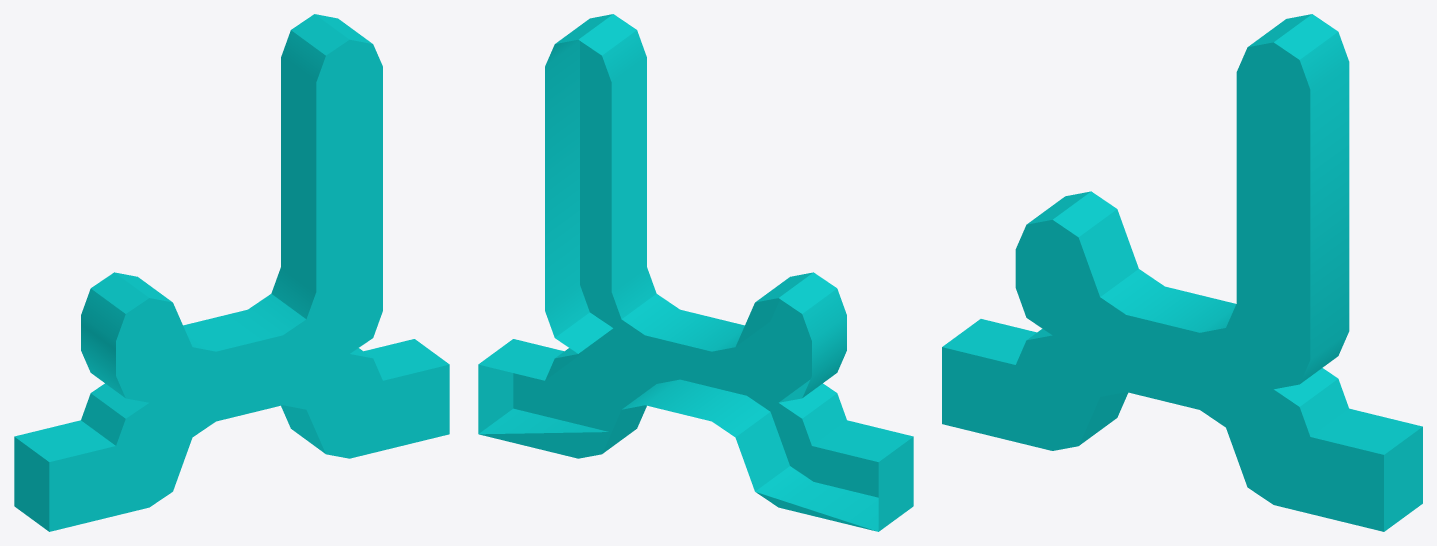
The model's file is J_Blue.glb.
3 views of the same model, side by side, from view 1: azimuth 30°, elevation 25°; view 2: azimuth 150°, elevation 25°; view 3: azimuth 330°, elevation 25° (orthographic). The views are drawn at different scales.
Parts seen in each view (by area): view 1: J; view 2: J; view 3: J.
Boxes of the visible parts, x1,y1,x2,y2 form: J: (14, 14, 449, 531); J: (478, 14, 913, 531); J: (942, 14, 1422, 531).
Bounding box in the file's own units: 0.4999 × 0.4999 × 0.0759.
1 material, 1 textured.
